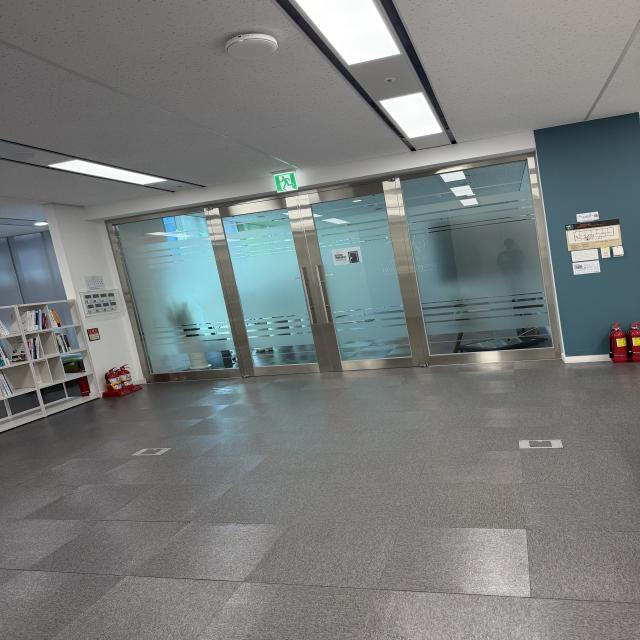front_door: (106, 153, 606, 382)
